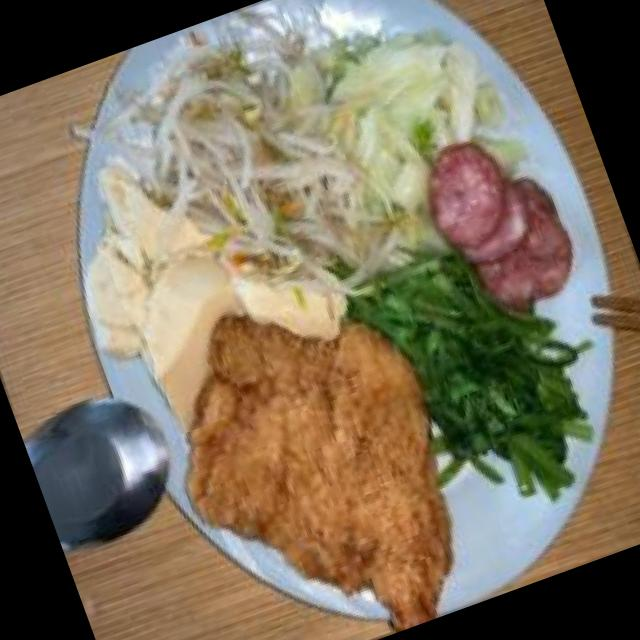chinese_cabbage: (308, 0, 514, 193)
chinese_sausage: (418, 122, 594, 327)
fried_chicken: (138, 258, 497, 640)
mung_bean_sprouts: (90, 0, 378, 297)
water_spinach: (384, 226, 608, 520)
